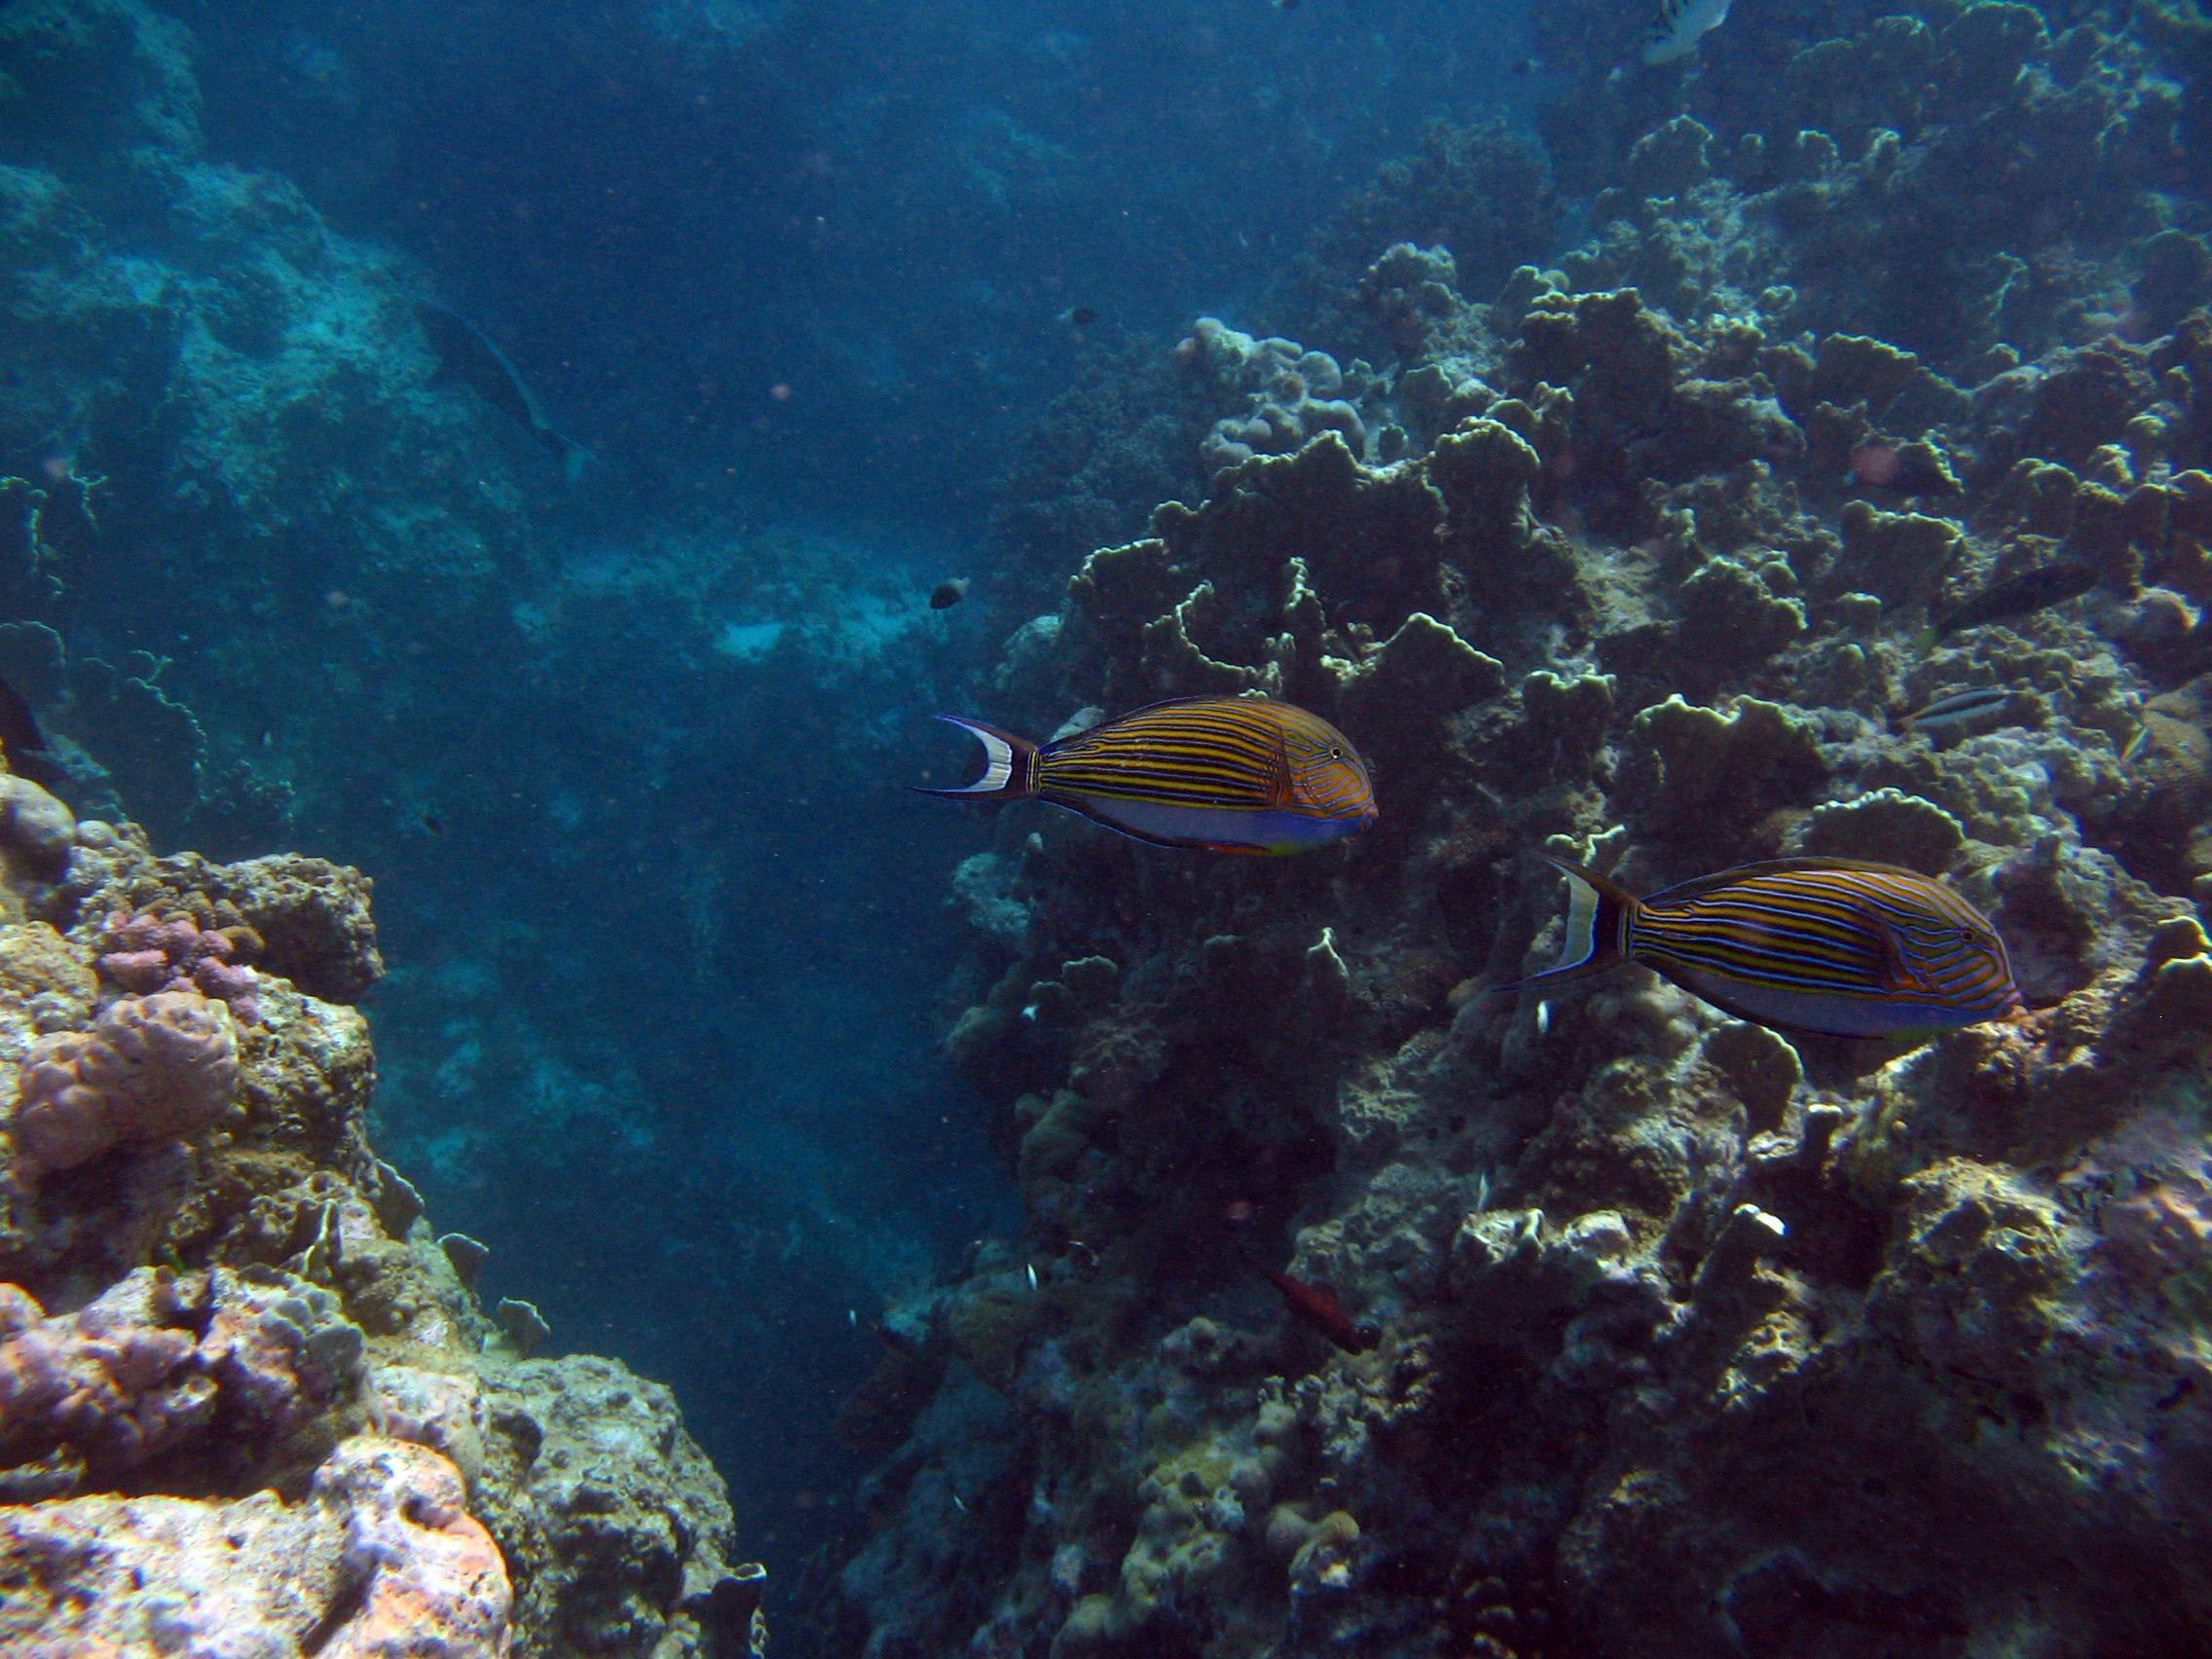Acanthurus lineatus: (1496, 805, 2041, 1091), (913, 669, 1390, 896)
